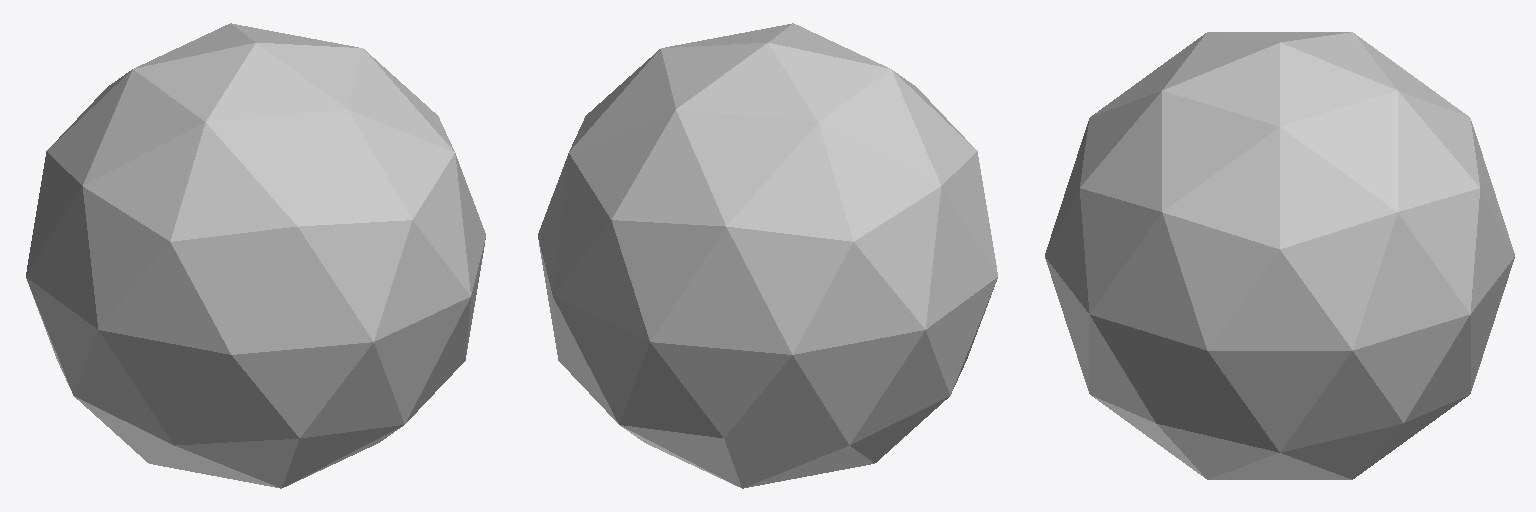
The picture shows the model from 3 angles: view 1: azimuth 30°, elevation 25°; view 2: azimuth 150°, elevation 25°; view 3: azimuth 270°, elevation 25°; orthographic projection.
Visible parts, largest first — view 1: Plano.006; view 2: Plano.006; view 3: Plano.006.
Part boxes in pixels (x1,y1,x2,y2): Plano.006: (26,23,485,488); Plano.006: (538,23,997,488); Plano.006: (1045,32,1514,479).
Bounding box in the file's own units: 0.0572 × 0.0601 × 0.0601.